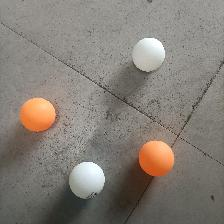WhiteBall: (68, 160, 105, 200), (130, 36, 165, 73)
YellowBall: (137, 139, 175, 177), (18, 95, 55, 133)
